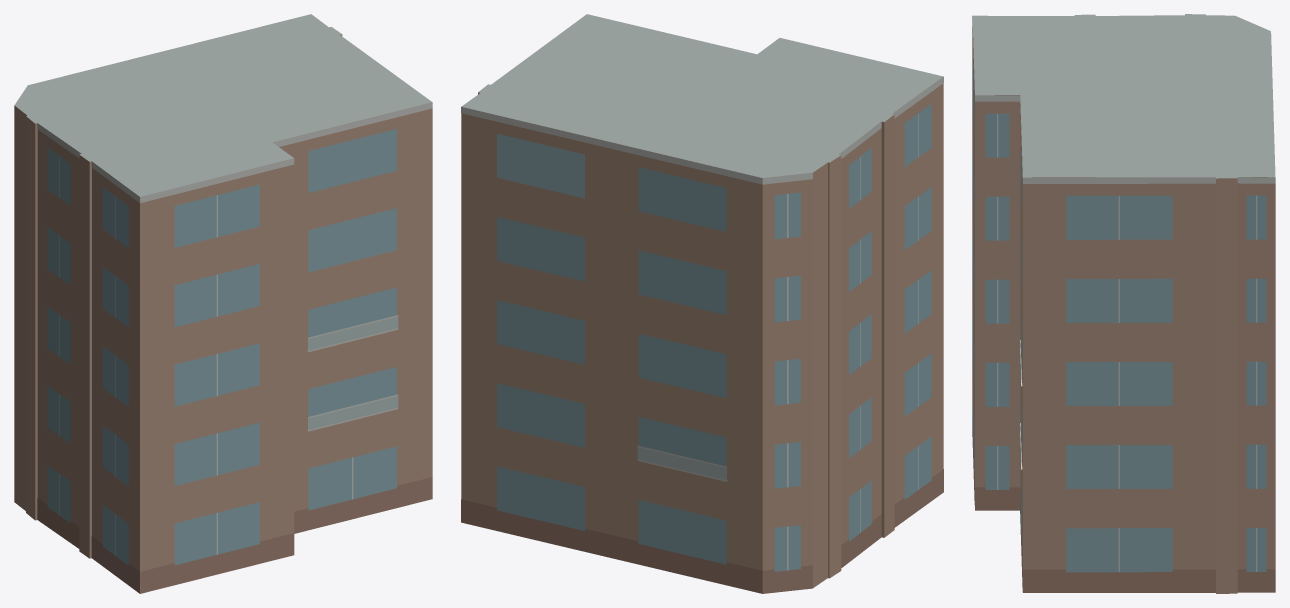
The model's file is survey-upis-32712362.glb.
The picture shows the model from 3 angles, left to right: view 1: azimuth 30°, elevation 25°; view 2: azimuth 150°, elevation 25°; view 3: azimuth 270°, elevation 25°; orthographic projection. The views are drawn at different scales.
Parts seen in each view (by area): view 1: survey-upis-32712362.tmp; view 2: survey-upis-32712362.tmp; view 3: survey-upis-32712362.tmp.
Part boxes in pixels (x1,y1,x2,y2): survey-upis-32712362.tmp: (14, 14, 432, 593); survey-upis-32712362.tmp: (461, 14, 943, 593); survey-upis-32712362.tmp: (972, 14, 1275, 593).
Bounding box in the file's own units: 13.24 × 15.6 × 10.32.
